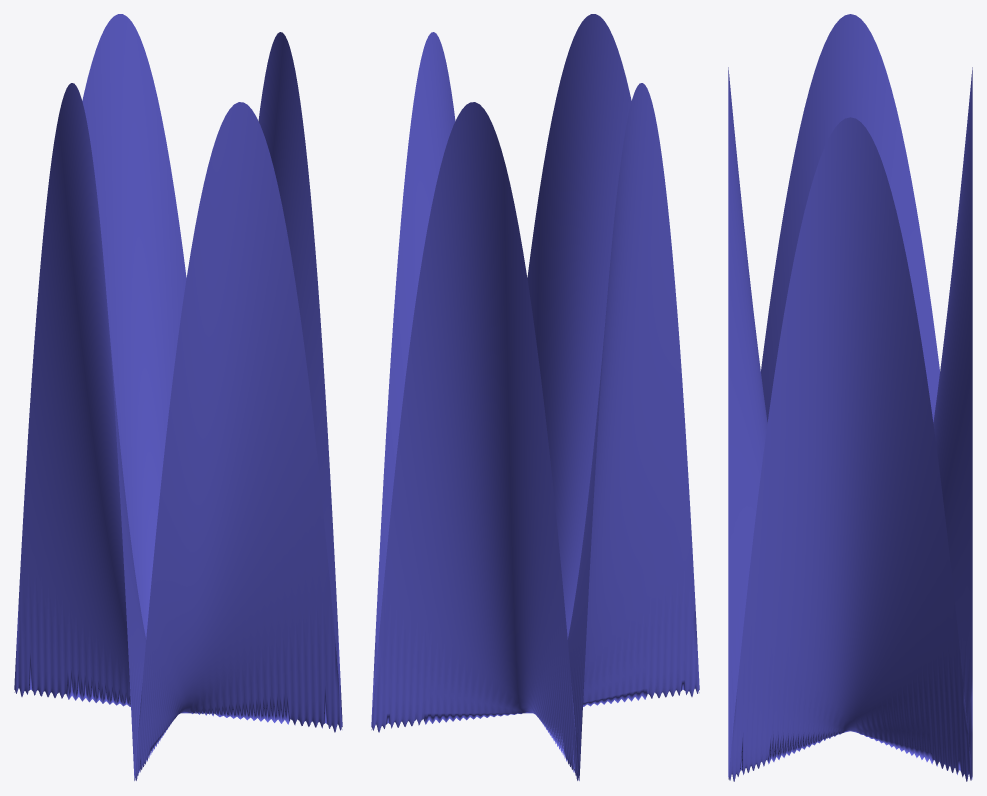
Rendered from absxquad-yquad_3D.fbx.
3 renders of one model, left to right at view 1: azimuth 30°, elevation 25°; view 2: azimuth 150°, elevation 25°; view 3: azimuth 270°, elevation 25°, orthographic.
Parts seen in each view (by area): view 1: polySurface100; view 2: polySurface100; view 3: polySurface100.
Boxes of the visible parts, x1,y1,x2,y2 form: polySurface100: (14,14,342,780); polySurface100: (371,14,699,780); polySurface100: (728,14,972,781).
Bounding box in the file's own units: 12 × 36.14 × 12.
